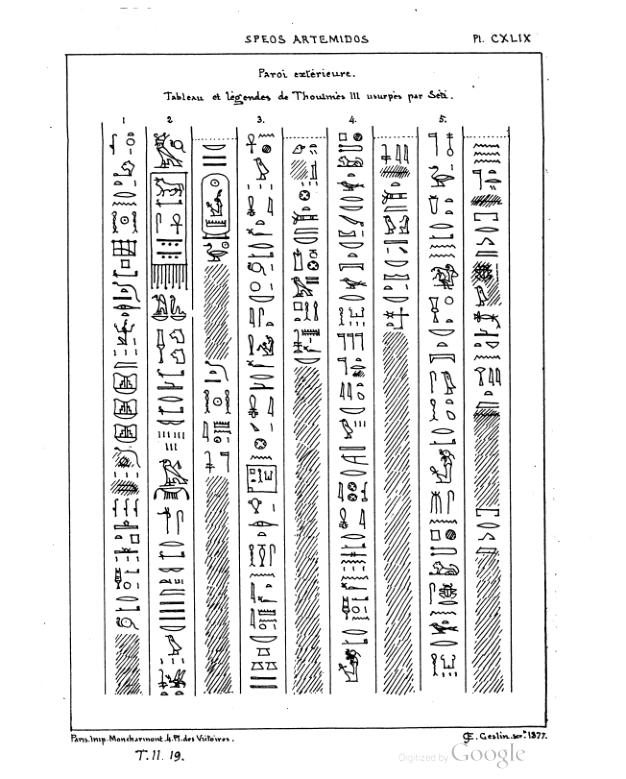circle: (198, 170, 233, 241)
